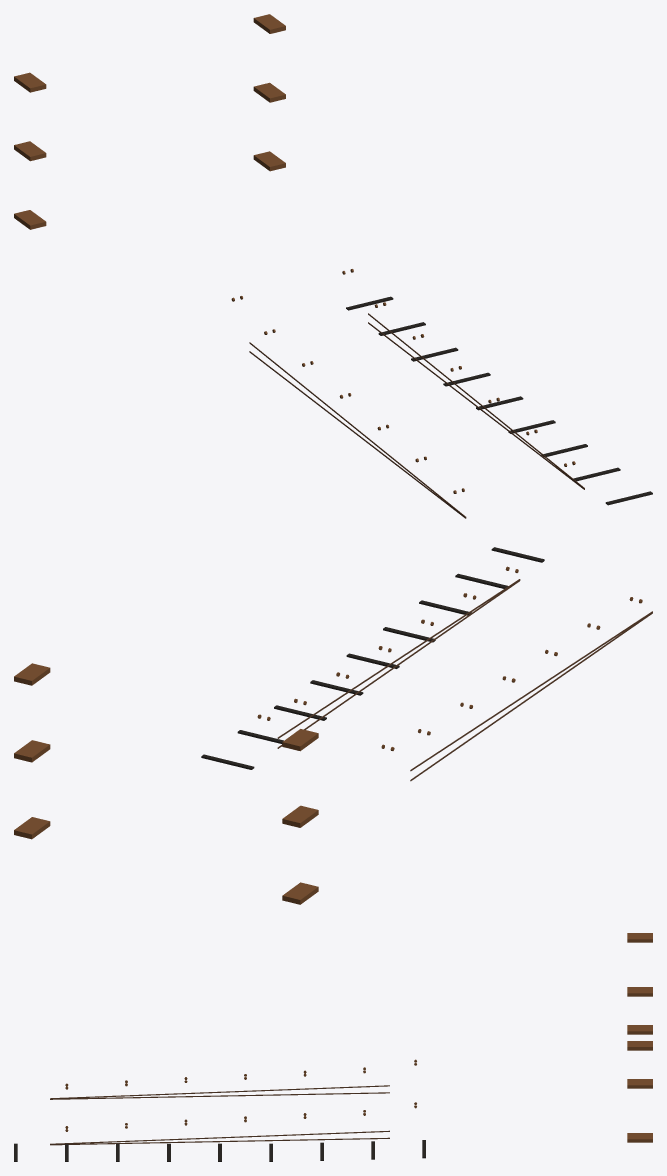
File: camp_skee_lane_detail1.glb
3 views of the same model, one above another, from view 1: azimuth 30°, elevation 25°; view 2: azimuth 150°, elevation 25°; view 3: azimuth 270°, elevation 25° (orthographic). The views are drawn at different scales.
Parts seen in each view (by area): view 1: Body; view 2: Body; view 3: Body.
Part boxes in pixels (x1,y1,x2,y2): Body: [14, 14, 652, 518]; Body: [14, 547, 652, 904]; Body: [14, 933, 652, 1161].
Size of the model in its own units: 13.66 by 9.1 by 37.56.
